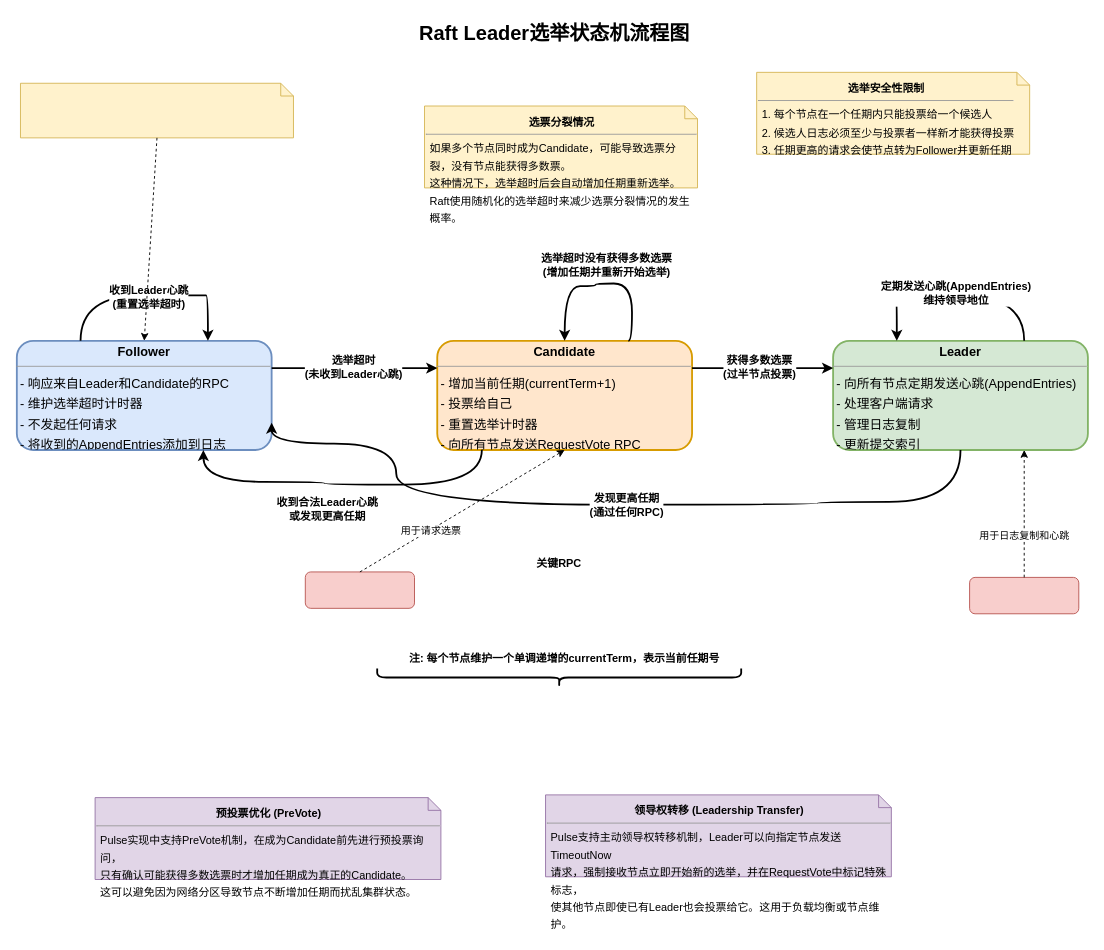
This 1104x950 diagram has some shape labels left out. The shapes that lost their labels are listed below. From the top down, each one's box as (x1, y1, x2, y2) in pixels, then its label:
(20, 82, 293, 138): 初始状态 所有节点初始化为Follower状态，等待心跳超时后转为Candidate开始选举。
(304, 571, 415, 608): RequestVote RPC
(969, 576, 1079, 614): AppendEntries RPC (也用作心跳)
